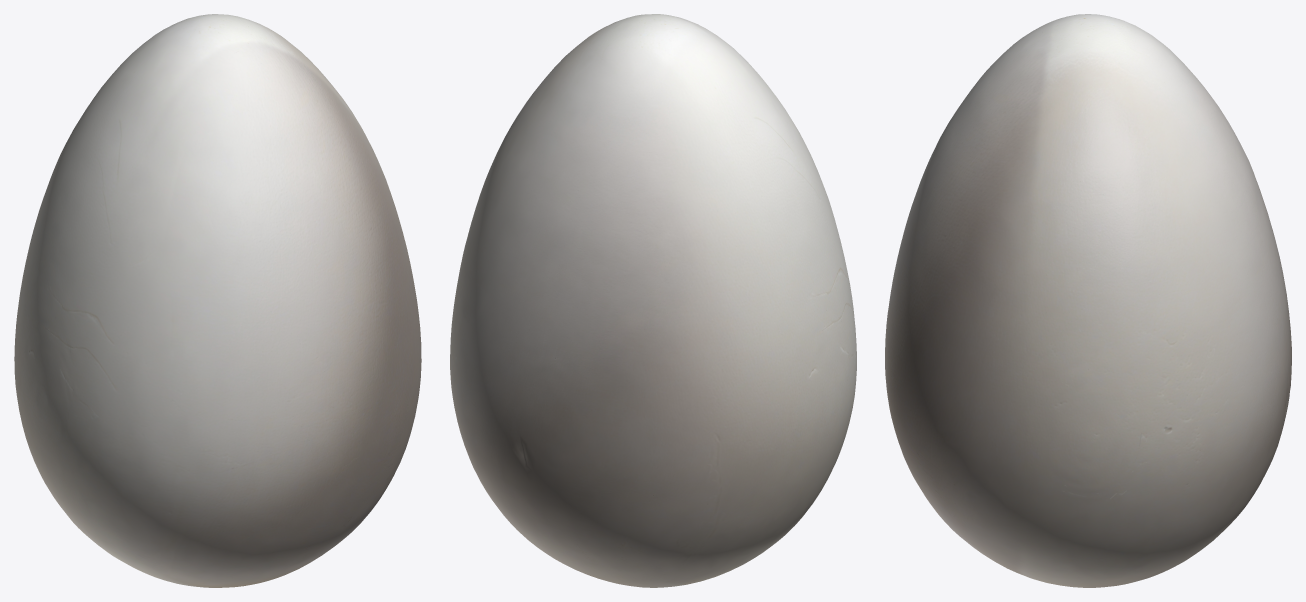
Rendered from egg.glb.
The picture shows the model from 3 angles, left to right: view 1: azimuth 30°, elevation 25°; view 2: azimuth 150°, elevation 25°; view 3: azimuth 270°, elevation 25°; orthographic projection.
Size of the model in its own units: 1.35 by 2 by 1.35.
Materials: 1 (1 with a texture image).
